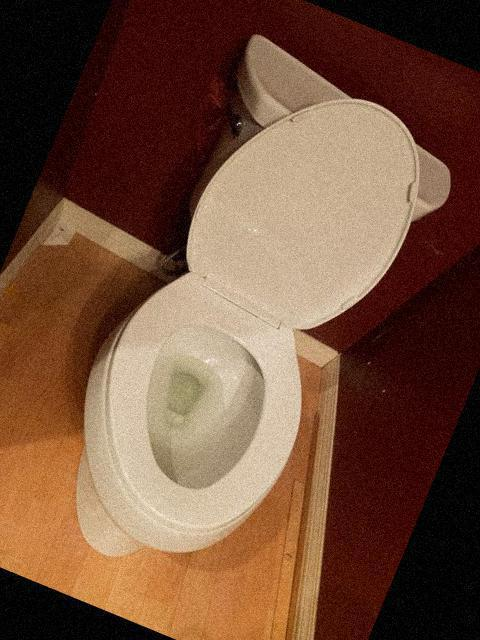Sanitario: (26, 33, 462, 634)
